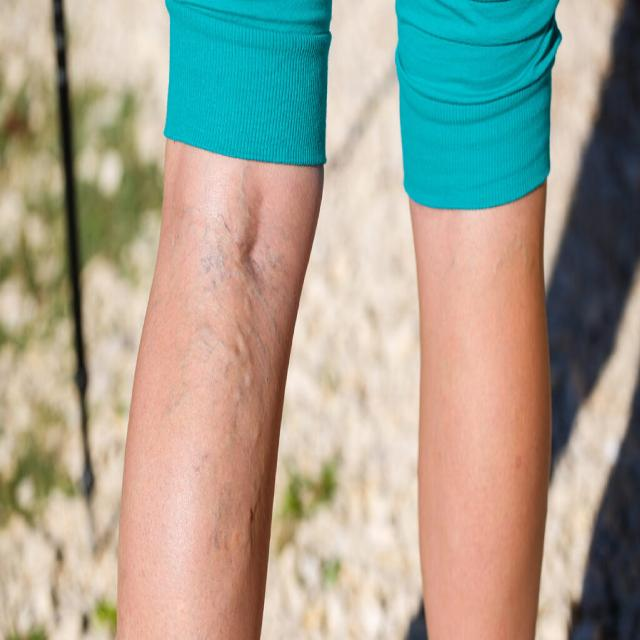Varicose: (124, 153, 324, 598)
